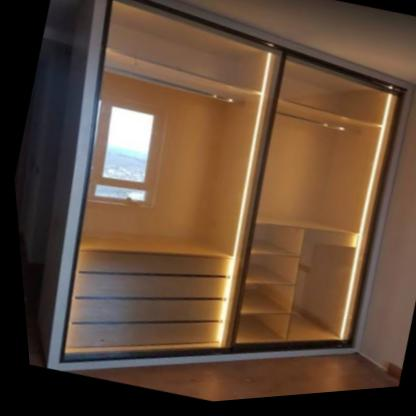Closet: (42, 0, 412, 374)
